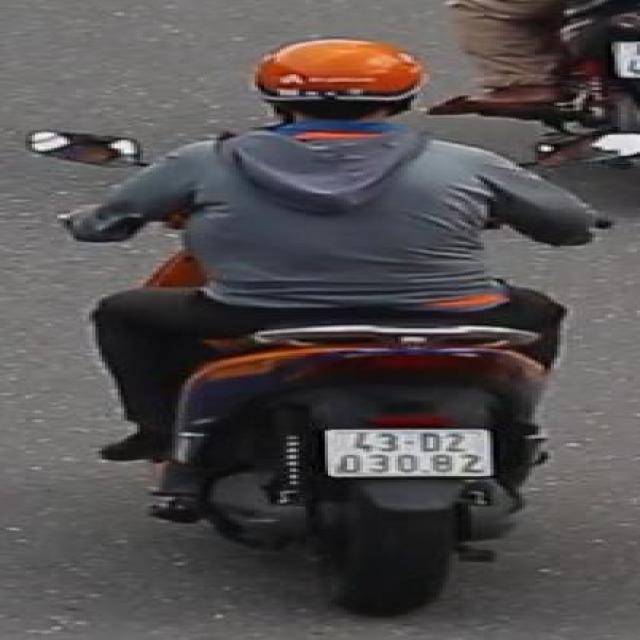LP: (318, 422, 500, 481), (611, 40, 640, 84)
helmet: (250, 32, 431, 130)
